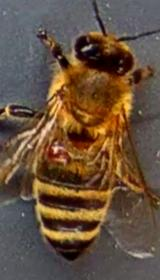varroa_mite: (36, 137, 80, 166)
